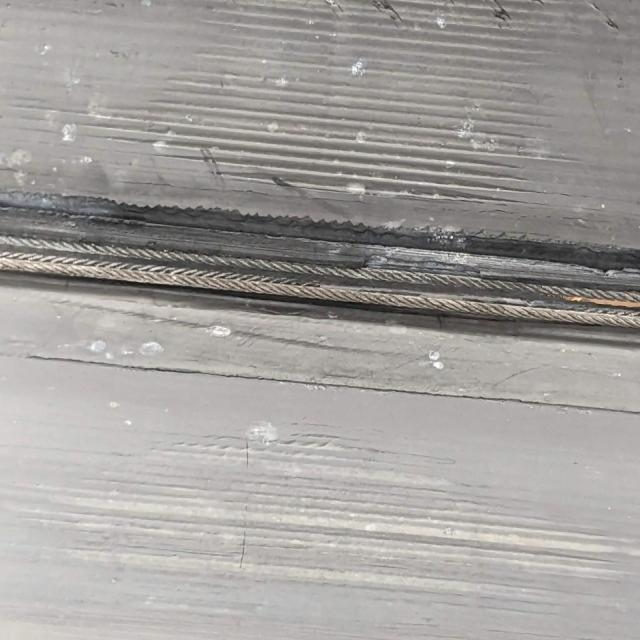impact damage: (84, 32, 552, 215), (0, 205, 640, 337)
